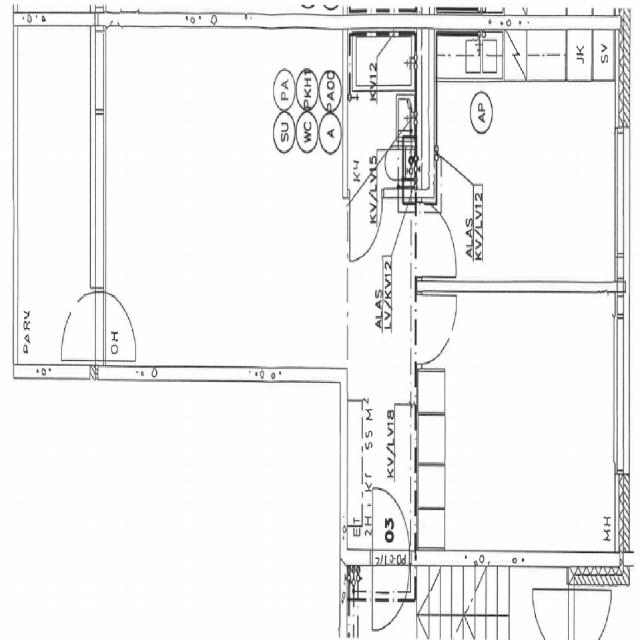door: (416, 202, 462, 276), (94, 292, 143, 360), (57, 292, 106, 360), (372, 482, 409, 567), (372, 551, 409, 636), (416, 295, 458, 363), (350, 189, 381, 257)
